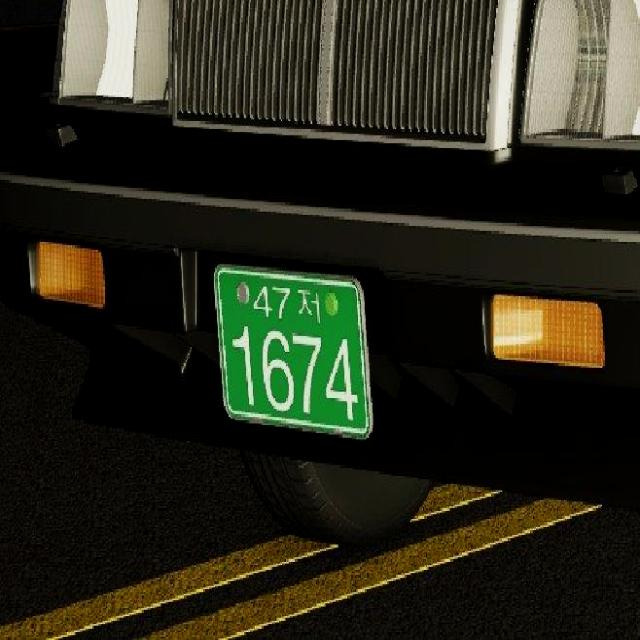illegal_plate: (205, 250, 378, 463)
